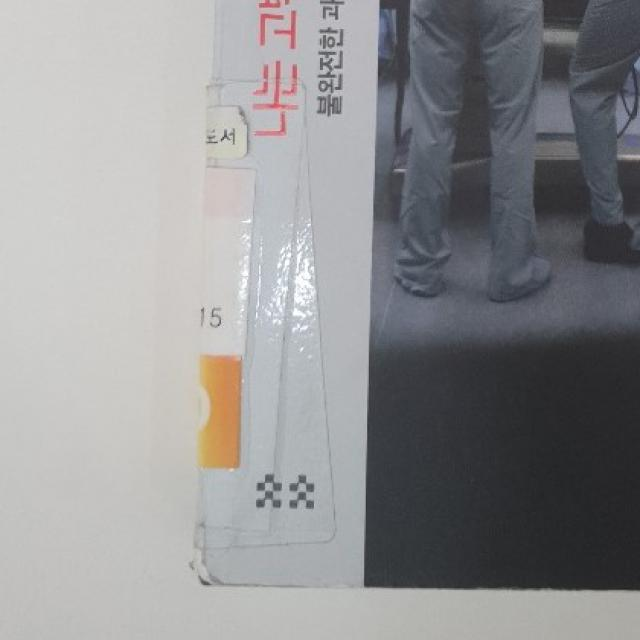Ripped: (183, 523, 246, 599)
Wornout: (455, 561, 592, 600)
